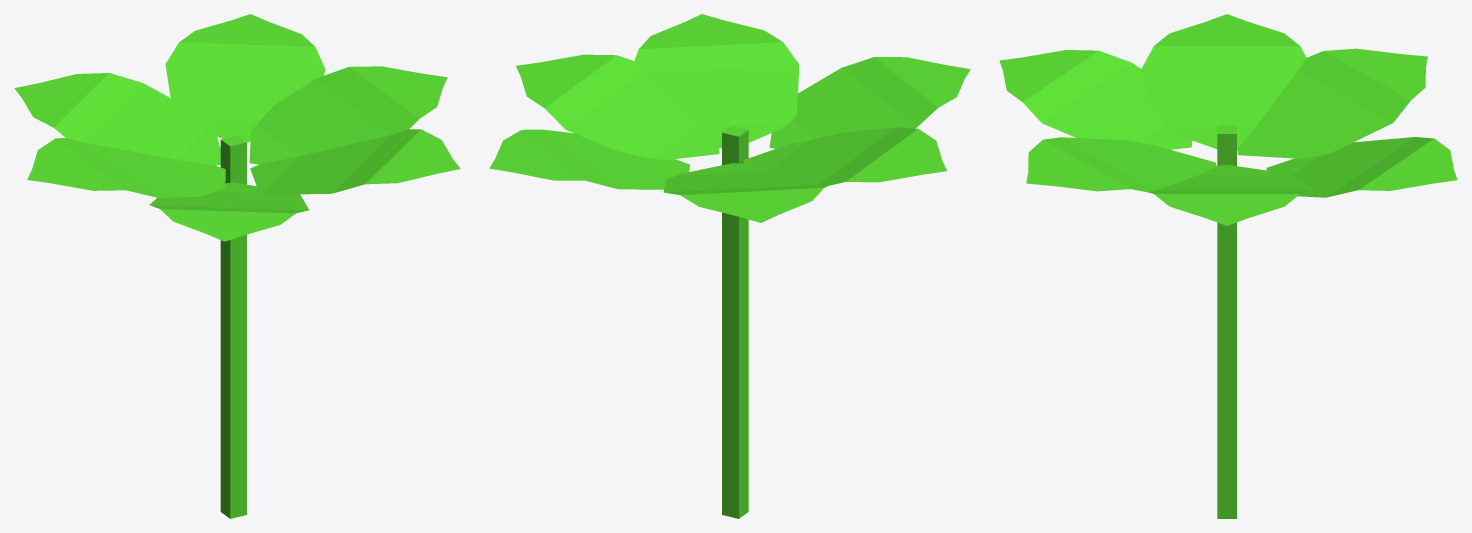
Rendered from flower1Budding.fbx.
3 renders of one model, left to right at view 1: azimuth 30°, elevation 25°; view 2: azimuth 150°, elevation 25°; view 3: azimuth 270°, elevation 25°, orthographic. The views are drawn at different scales.
Parts seen in each view (by area): view 1: leaf.001, leaf, leaf1, stalk; view 2: leaf, leaf.001, leaf1, stalk; view 3: leaf.001, leaf, leaf1, stalk.
Boxes of the visible parts, x1=… form: leaf.001: x1=14, y1=73, x2=460, y2=194; leaf: x1=27, y1=66, x2=447, y2=197; leaf1: x1=149, y1=14, x2=325, y2=241; stalk: x1=220, y1=135, x2=246, y2=518; leaf: x1=516, y1=54, x2=946, y2=185; leaf.001: x1=634, y1=14, x2=827, y2=222; leaf1: x1=489, y1=57, x2=970, y2=189; stalk: x1=722, y1=125, x2=748, y2=518; leaf.001: x1=1026, y1=48, x2=1427, y2=192; leaf: x1=1141, y1=14, x2=1312, y2=225; leaf1: x1=999, y1=50, x2=1457, y2=197; stalk: x1=1217, y1=125, x2=1236, y2=518.
Bounding box in the file's own units: 391 × 344 × 357.
